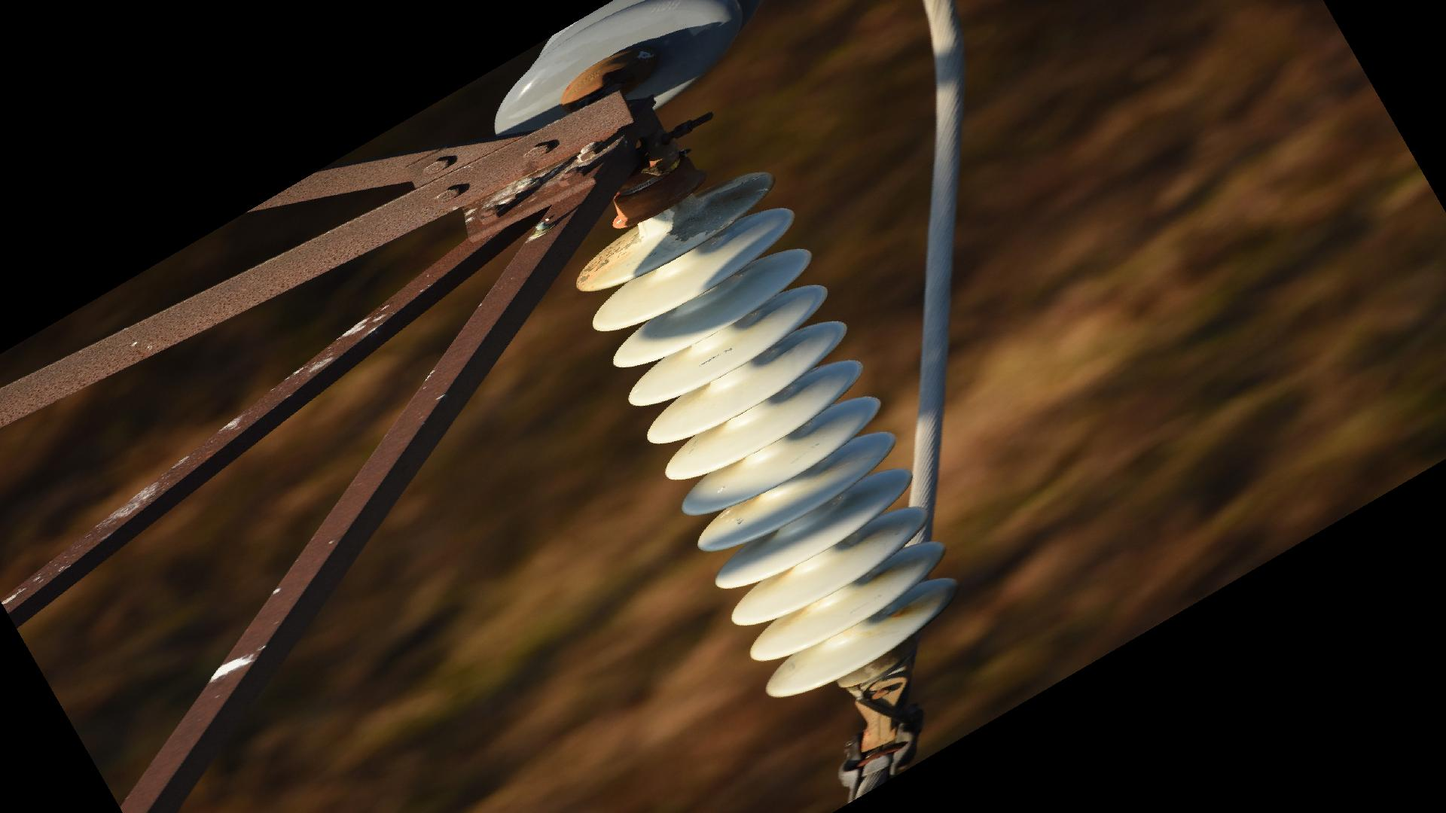insulator: (569, 163, 966, 709)
insulator_flashover: (670, 164, 779, 242)
